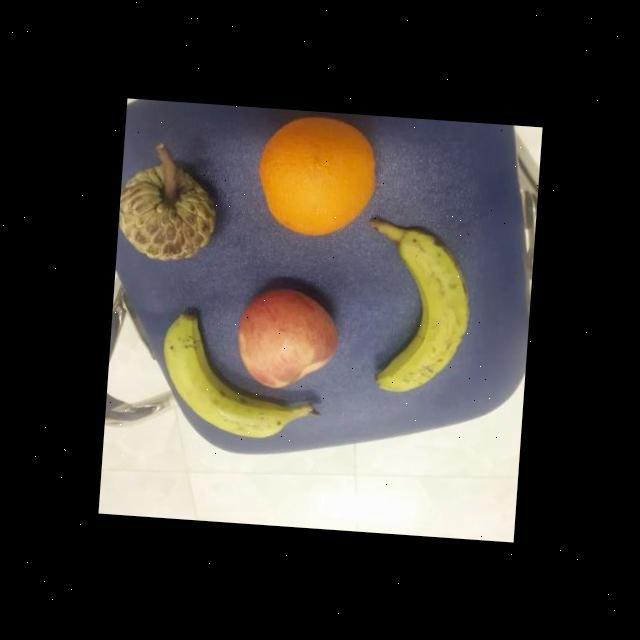Sakya fruit: (116, 157, 221, 266)
apple: (232, 280, 346, 392)
banana: (364, 224, 477, 405), (156, 309, 292, 443)
orange: (252, 112, 381, 240)
